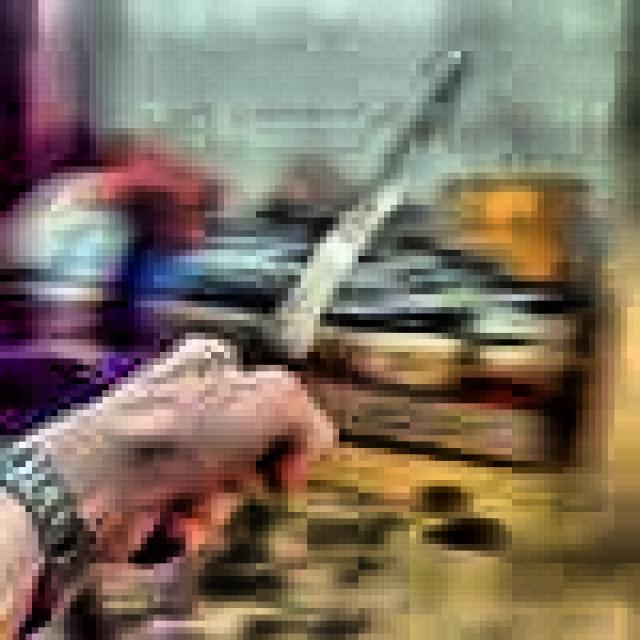knife: (138, 54, 474, 561)
